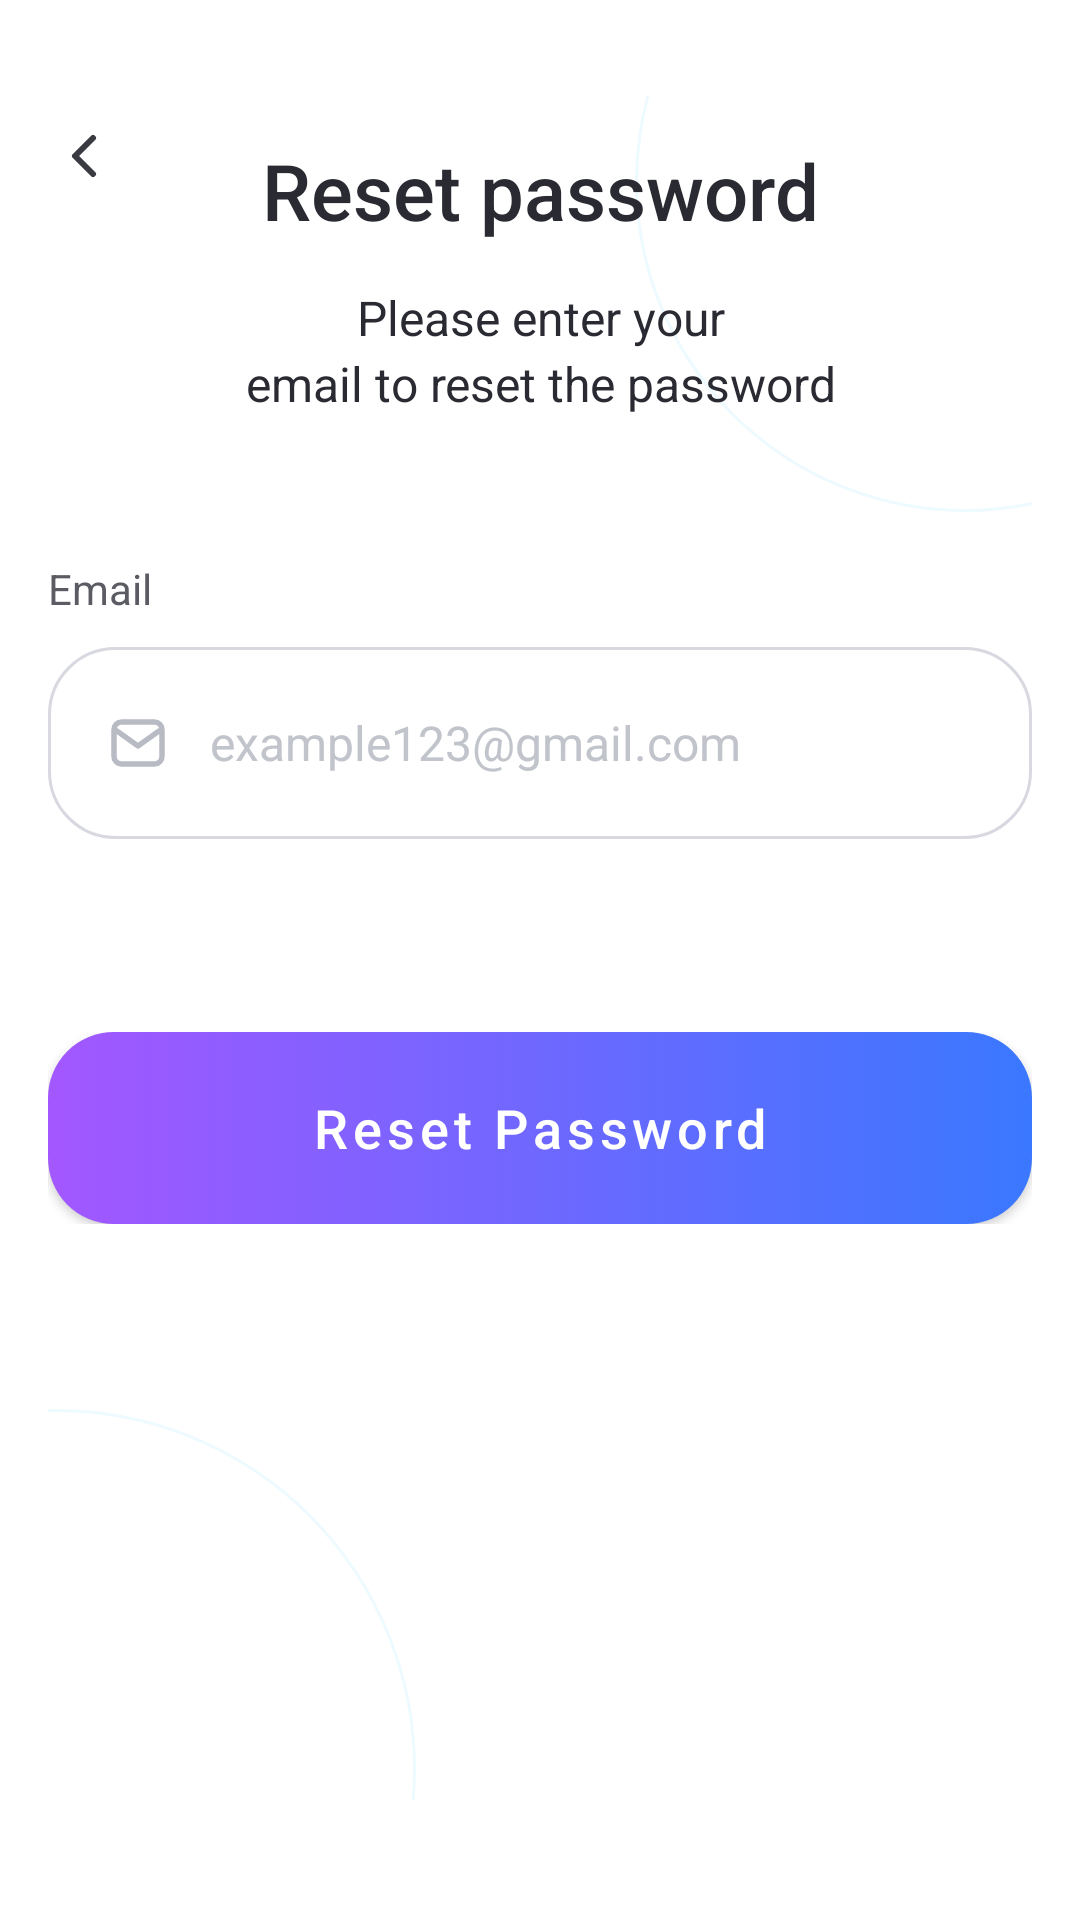

Where icons sit on this 1080w x 1920h app screen, as {"x1": x1, "y1": y1, "x2": x2, "y2": y2}:
auth arrow back: {"x1": 72, "y1": 135, "x2": 96, "y2": 177}
auth mail: {"x1": 111, "y1": 719, "x2": 165, "y2": 767}
